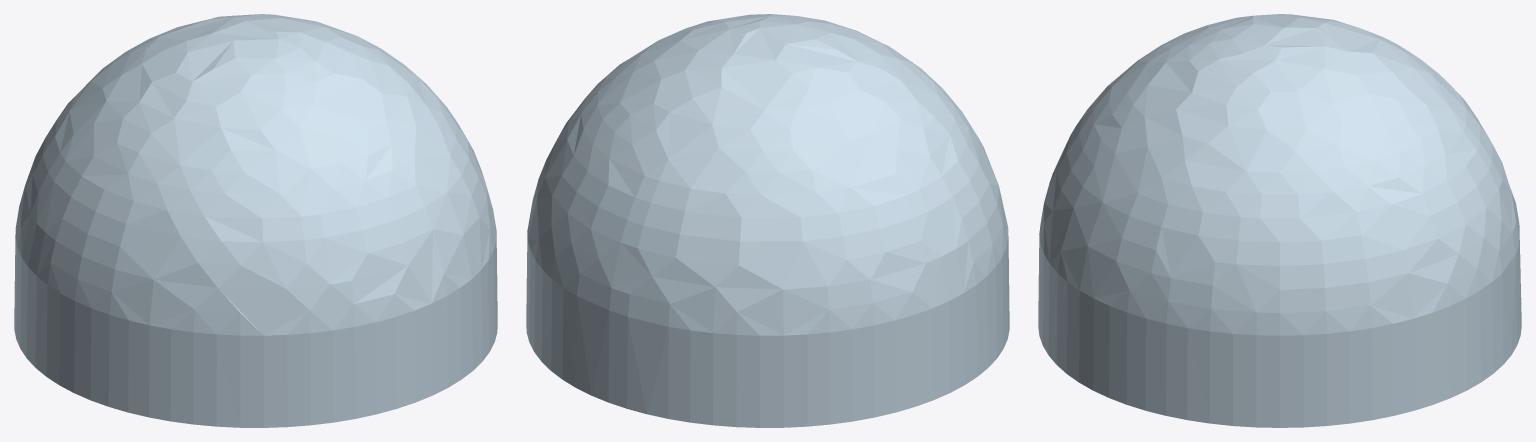
Rendered from Haven_Sky.mobile.glb.
3 views of the same model, side by side, from view 1: azimuth 30°, elevation 25°; view 2: azimuth 150°, elevation 25°; view 3: azimuth 270°, elevation 25° (orthographic).
Parts seen in each view (by area): view 1: shared_SkyDomeB; view 2: shared_SkyDomeB; view 3: shared_SkyDomeB.
Boxes of the visible parts, <box> form: shared_SkyDomeB: <box>14,14,497,427</box>; shared_SkyDomeB: <box>526,14,1009,427</box>; shared_SkyDomeB: <box>1038,14,1521,427</box>.
Bounding box in the file's own units: 16384 × 10777 × 16384.
